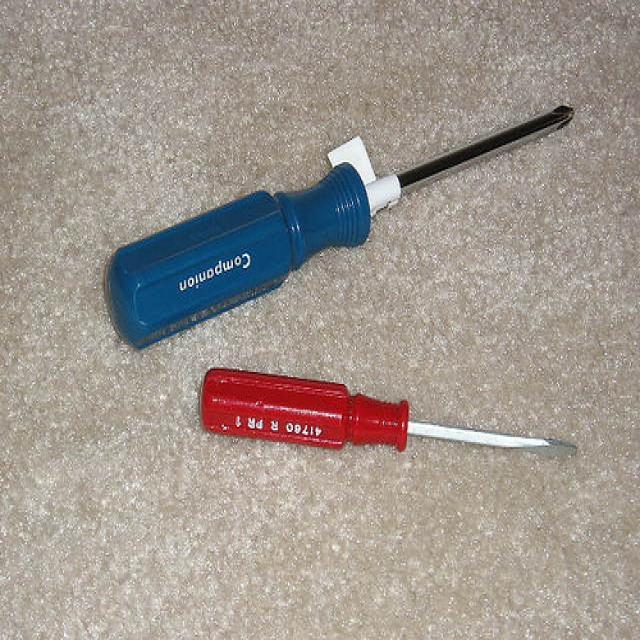screwdriver: (74, 74, 596, 364), (151, 337, 584, 498)
